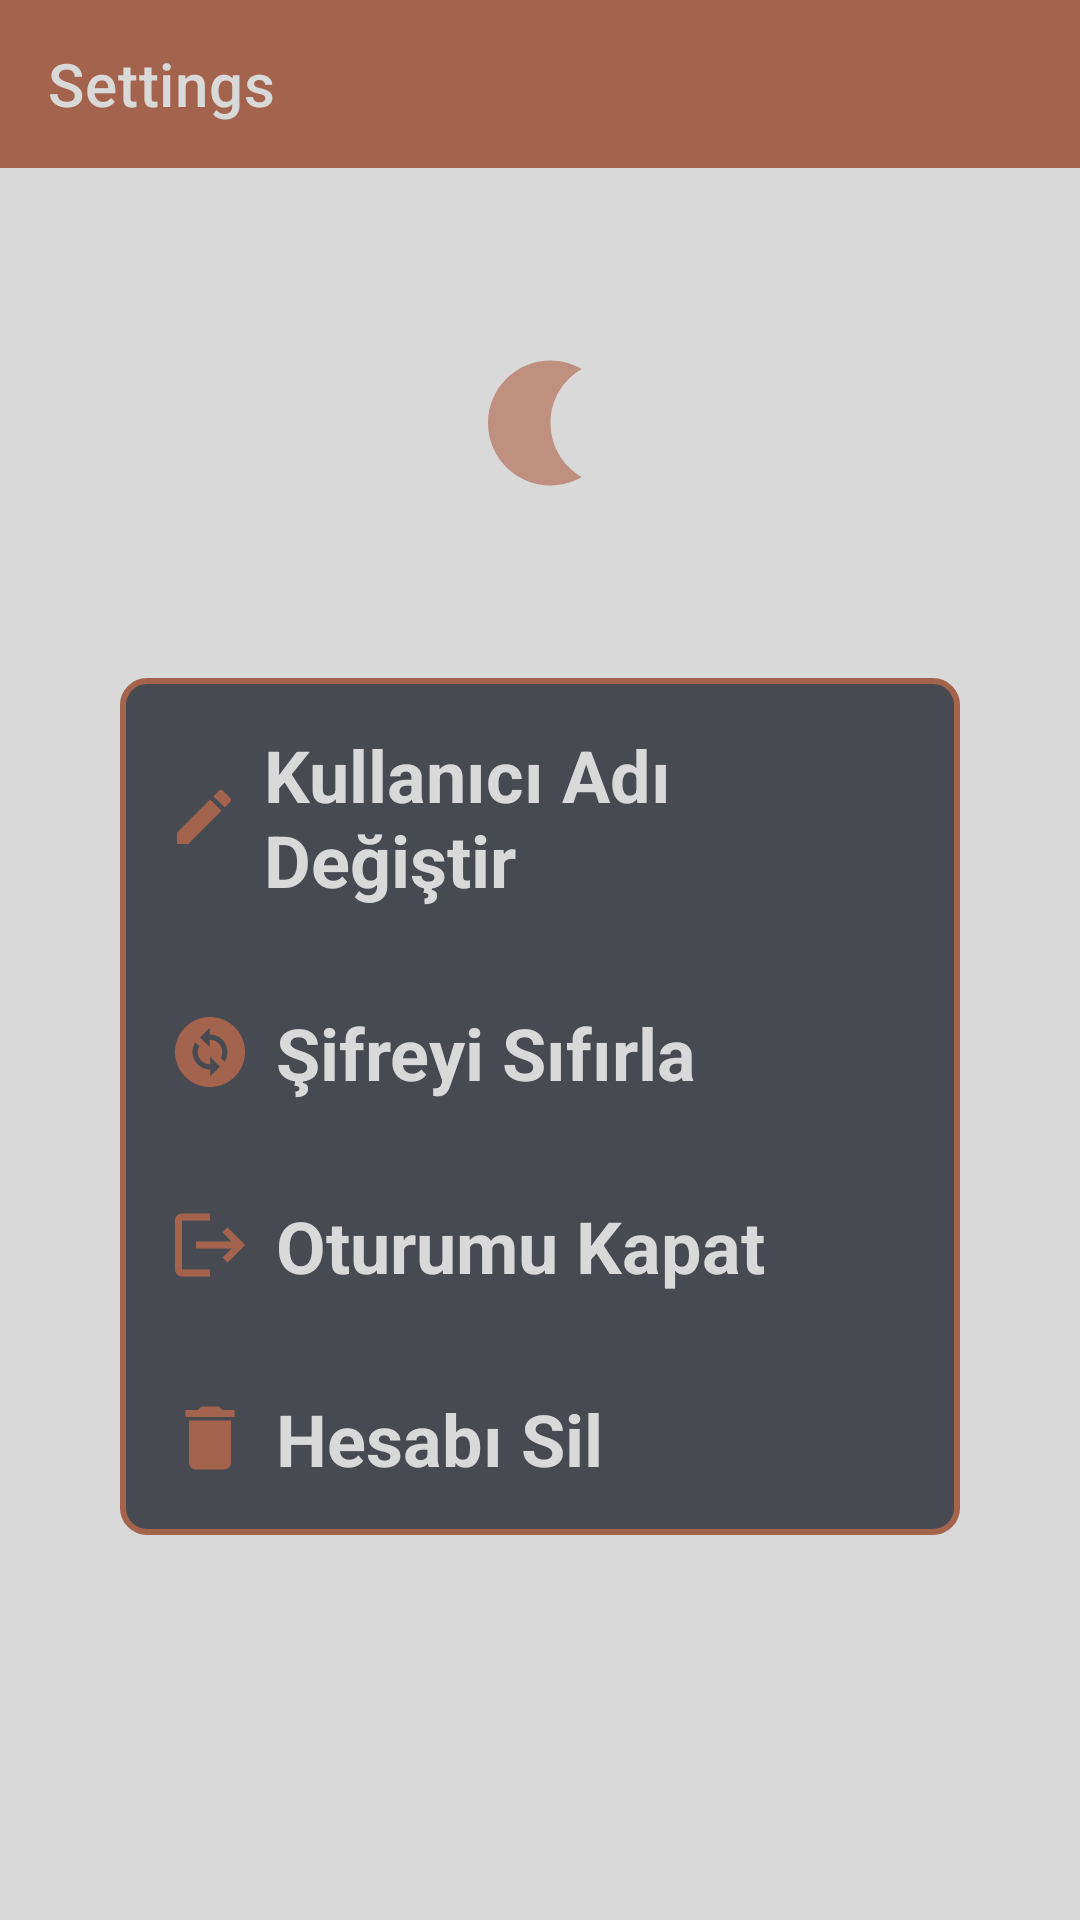

Where to tap for icons on this 1080px x 1920px app screen, as [x,y]:
night: [534,423]
